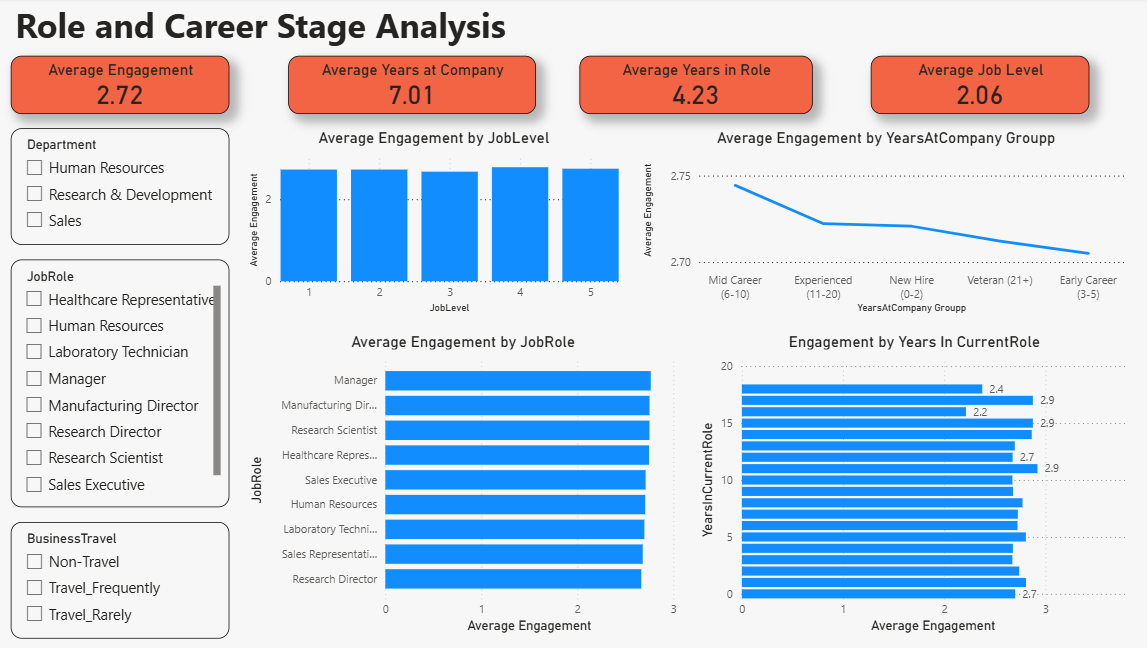

The page's visual inventory and layout, read from the dashboard file:
{"tool":"powerbi","page":{"name":"Page 3","canvas":[1280,720],"ordinal":2},"visuals":[{"type":"card","title":"Average Engagement","fields":{"Values":["Palo_Alto_Cleaned.Average Engagement"]},"box":[32,64,240,64],"z":0},{"type":"card","title":"Average Years at Company","fields":{"Values":["Palo_Alto_Cleaned.Average Tenure"]},"box":[336,64,272,64],"z":1000},{"type":"card","title":"Average Years in Role","fields":{"Values":["Palo_Alto_Cleaned.Average Current Role"]},"box":[656,64,256,64],"z":2000},{"type":"card","title":"Average Job Level","fields":{"Values":["Palo_Alto_Cleaned.Average Job Level"]},"box":[976,64,240,64],"z":3000},{"type":"slicer","fields":{"Values":["Palo_Alto_Cleaned.Department"]},"box":[32,144,240,128],"z":4000},{"type":"slicer","fields":{"Values":["Palo_Alto_Cleaned.JobRole"]},"box":[32,288,240,272],"z":5000},{"type":"slicer","fields":{"Values":["Palo_Alto_Cleaned.BusinessTravel"]},"box":[32,576,240,128],"z":6000},{"type":"clusteredColumnChart","fields":{"Category":["Palo_Alto_Cleaned.JobLevel"],"Y":["Palo_Alto_Cleaned.Average Engagement"]},"box":[288,144,416,208],"z":7000},{"type":"lineChart","fields":{"Category":["Palo_Alto_Cleaned.YearsAtCompany Groupp"],"Y":["Palo_Alto_Cleaned.Average Engagement"]},"box":[720,144,544,208],"z":8000},{"type":"clusteredBarChart","fields":{"Category":["Palo_Alto_Cleaned.JobRole"],"Y":["Palo_Alto_Cleaned.Average Engagement"]},"box":[288,368,480,336],"z":9000},{"type":"barChart","title":"Engagement by Years In CurrentRole","fields":{"Category":["Palo_Alto_Cleaned.YearsInCurrentRole"],"Y":["Palo_Alto_Cleaned.Average Engagement"]},"box":[784,368,480,336],"z":10000},{"type":"textbox","box":[32,0,736,64],"z":10001}]}

Visuals, with their boxes in screenshot pixels (x1, y1, x2, y2), scaled from the page's 1280x720 canvas onto the 1147x648 screenshot:
"Average Engagement" card: bbox=[29, 58, 244, 115]
"Average Years at Company" card: bbox=[301, 58, 545, 115]
"Average Years in Role" card: bbox=[588, 58, 817, 115]
"Average Job Level" card: bbox=[875, 58, 1090, 115]
slicer - Palo_Alto_Cleaned.Department: bbox=[29, 130, 244, 245]
slicer - Palo_Alto_Cleaned.JobRole: bbox=[29, 259, 244, 504]
slicer - Palo_Alto_Cleaned.BusinessTravel: bbox=[29, 518, 244, 634]
clusteredColumnChart - Palo_Alto_Cleaned.JobLevel x Palo_Alto_Cleaned.Average Engagement: bbox=[258, 130, 631, 317]
lineChart - Palo_Alto_Cleaned.YearsAtCompany Groupp x Palo_Alto_Cleaned.Average Engagement: bbox=[645, 130, 1133, 317]
clusteredBarChart - Palo_Alto_Cleaned.JobRole x Palo_Alto_Cleaned.Average Engagement: bbox=[258, 331, 688, 634]
"Engagement by Years In CurrentRole" barChart: bbox=[703, 331, 1133, 634]
textbox: bbox=[29, 0, 688, 58]
